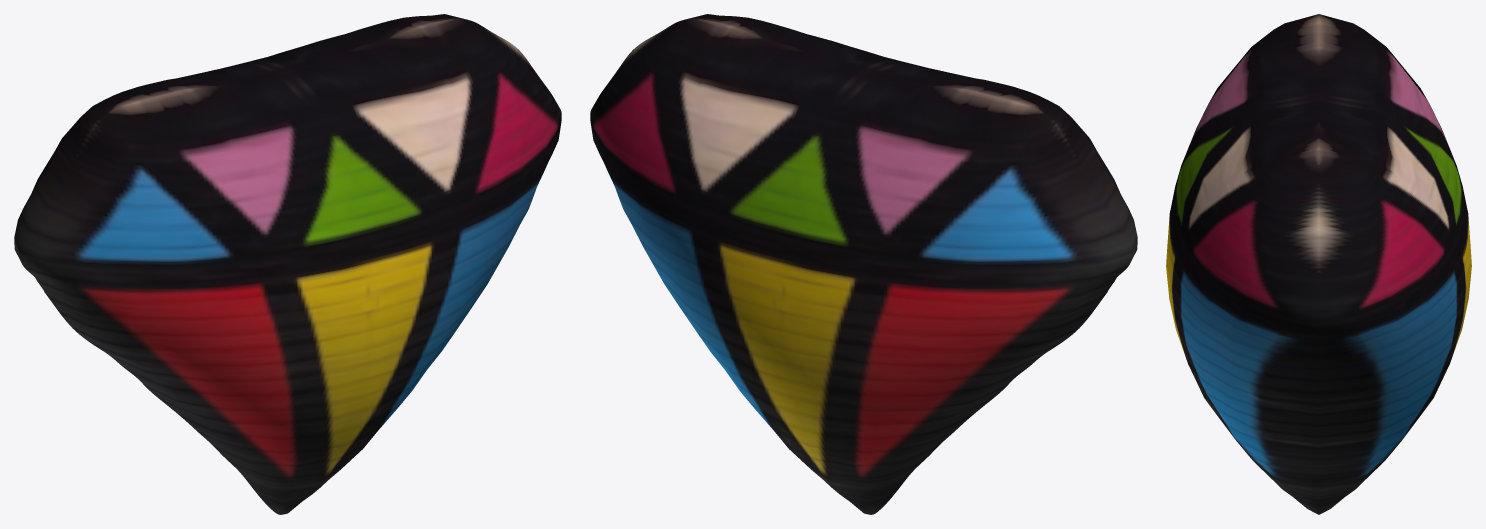
The model's file is diamond.glb.
The picture shows the model from 3 angles, left to right: view 1: azimuth 30°, elevation 25°; view 2: azimuth 150°, elevation 25°; view 3: azimuth 270°, elevation 25°; orthographic projection. The views are drawn at different scales.
Parts seen in each view (by area): view 1: Mesh_0.005; view 2: Mesh_0.005; view 3: Mesh_0.005.
Boxes of the visible parts, x1=… form: Mesh_0.005: x1=14, y1=14, x2=561, y2=514; Mesh_0.005: x1=590, y1=14, x2=1137, y2=514; Mesh_0.005: x1=1166, y1=14, x2=1471, y2=514.
Size of the model in its own units: 348 by 282 by 181.
1 material, 1 textured.
